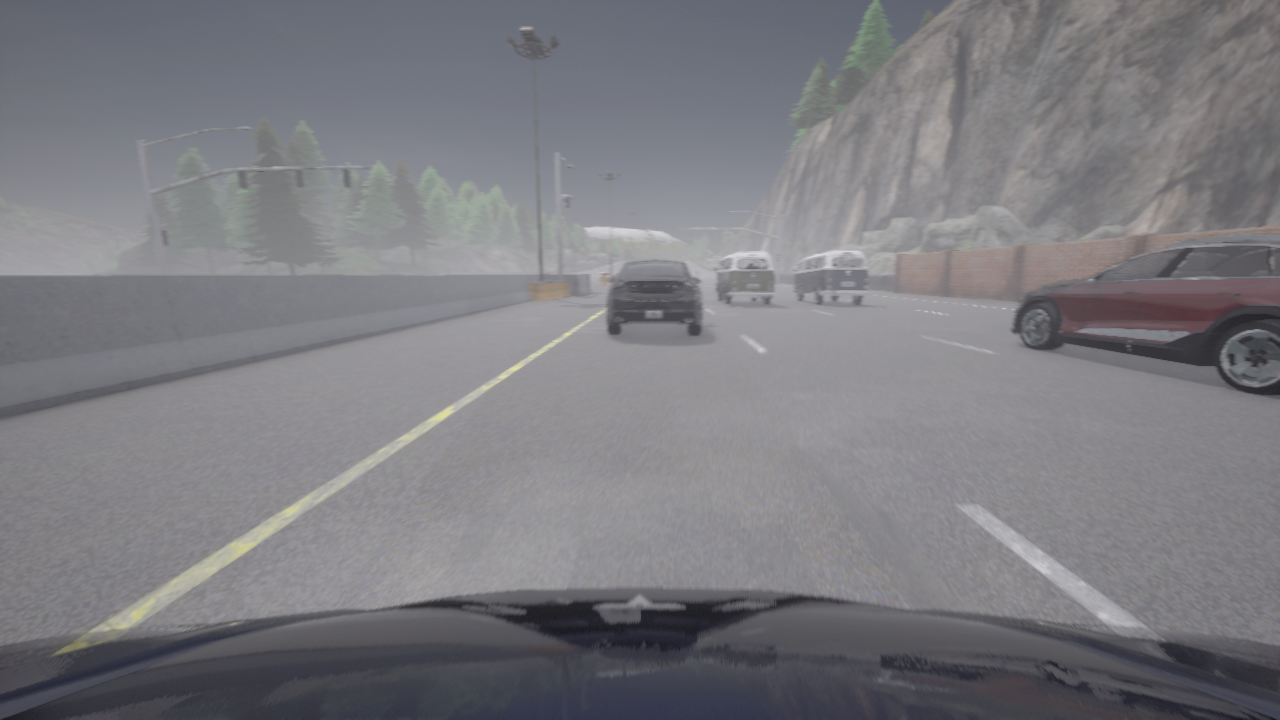cyclist: (0, 588, 1279, 719), (1011, 235, 1279, 396), (607, 259, 701, 334), (793, 250, 869, 305), (713, 252, 774, 304), (696, 274, 697, 277)
